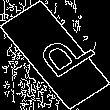P_SW: (20, 25, 90, 85)
